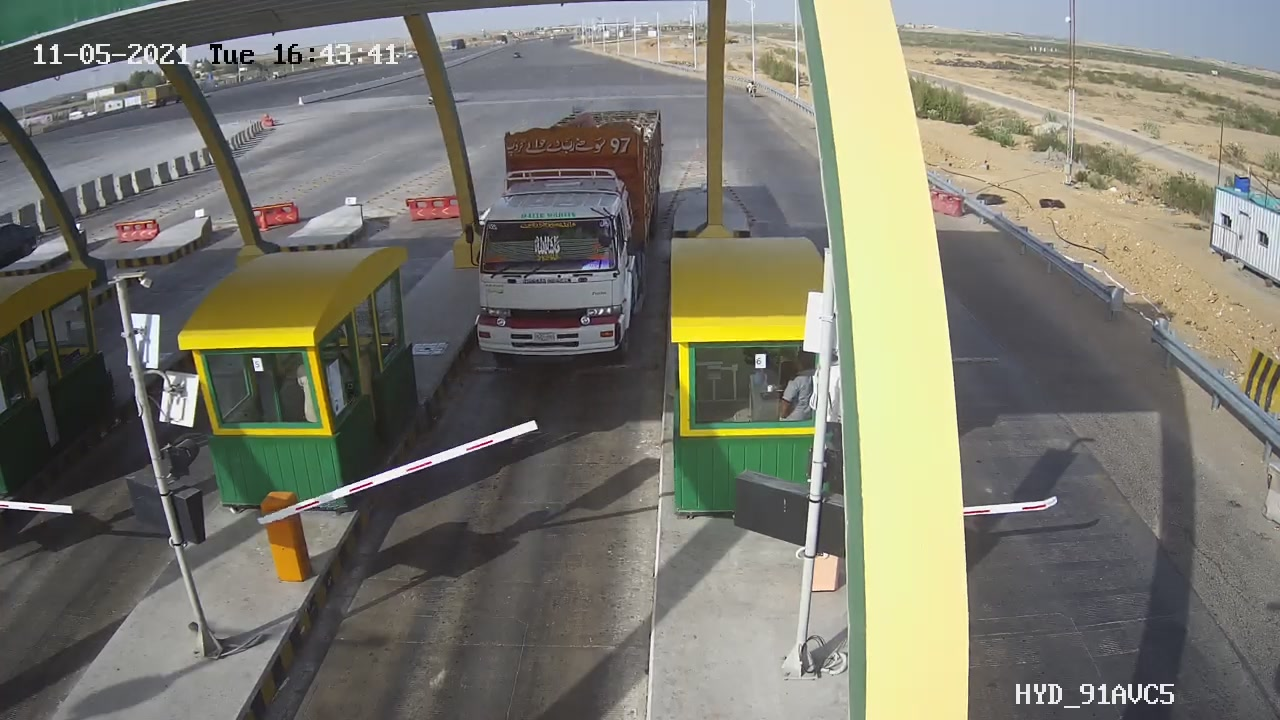F6: (449, 97, 687, 394)
